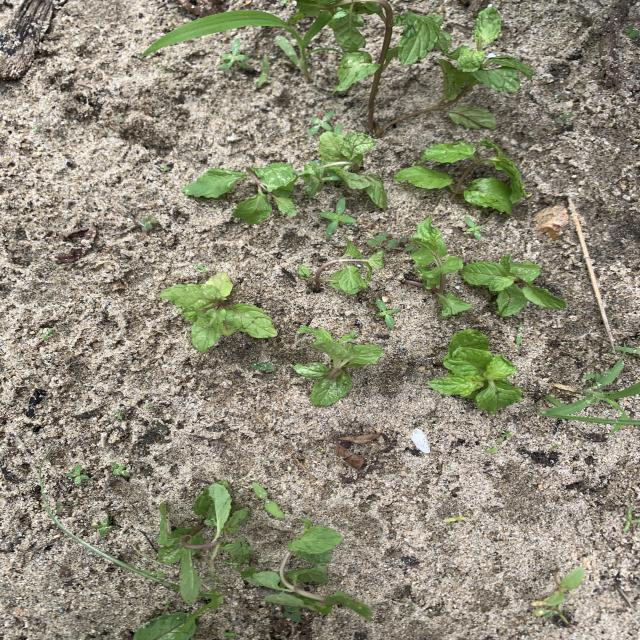crop: (297, 0, 533, 136), (241, 518, 371, 620), (157, 482, 252, 601), (396, 141, 530, 214), (160, 274, 275, 351), (429, 329, 521, 413), (183, 163, 298, 223), (294, 328, 383, 405), (404, 217, 471, 316), (462, 254, 566, 315), (318, 131, 387, 209), (300, 239, 383, 293)
weed: (142, 10, 340, 75), (50, 511, 180, 590), (539, 360, 640, 432), (546, 567, 583, 605), (299, 162, 338, 198), (321, 199, 355, 234), (253, 482, 283, 517), (220, 39, 248, 69), (377, 299, 399, 327), (309, 111, 333, 135), (368, 234, 405, 247), (67, 464, 88, 486), (92, 518, 117, 535), (623, 508, 639, 531), (465, 217, 482, 238), (256, 55, 267, 86), (514, 322, 524, 346), (141, 215, 158, 229), (111, 462, 128, 475), (251, 362, 275, 371), (556, 113, 572, 124), (403, 239, 417, 251), (329, 123, 343, 134), (443, 517, 468, 523), (498, 430, 511, 441), (627, 26, 639, 37), (43, 329, 53, 339), (55, 501, 64, 511), (269, 440, 281, 447), (197, 264, 207, 271), (485, 448, 498, 452), (145, 403, 151, 407)
